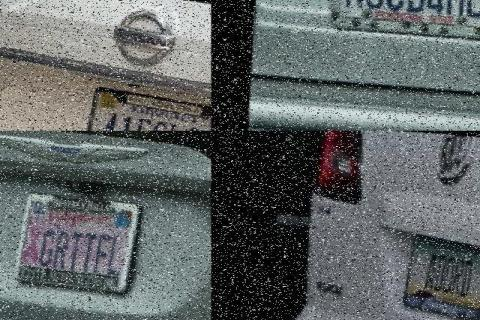LicensePlate: (14, 190, 134, 292), (323, 0, 480, 58), (400, 232, 480, 318), (83, 83, 210, 130)
